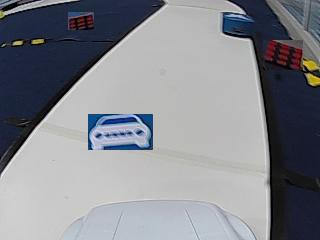prop: (222, 12, 255, 38)
